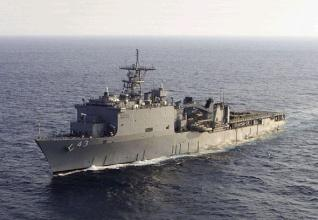warship: (32, 48, 291, 172)
